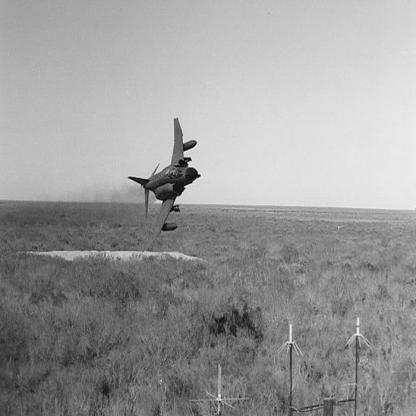F4: (127, 118, 202, 254)
